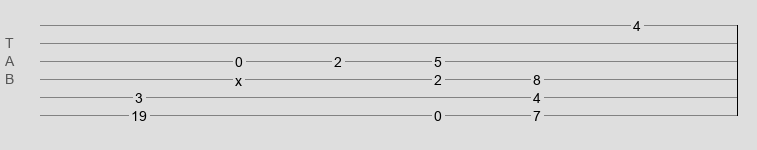0: (235, 54, 243, 64), (434, 108, 442, 118)
19: (131, 108, 147, 118)
2: (334, 54, 342, 64), (434, 72, 442, 82)
3: (135, 90, 143, 100)
4: (533, 90, 541, 100), (633, 18, 641, 28)
5: (434, 54, 442, 64)
7: (533, 108, 541, 118)
8: (533, 72, 541, 82)
x: (235, 73, 242, 81)
